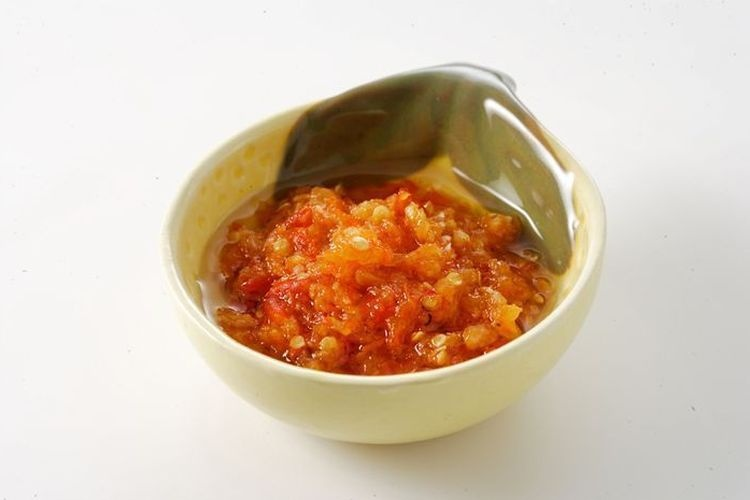sambal: (216, 182, 543, 371)
